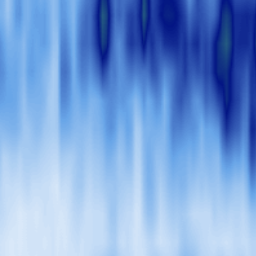defect: (211, 1, 239, 132), (153, 1, 187, 73), (91, 1, 114, 78), (132, 1, 155, 65), (189, 24, 202, 60)
